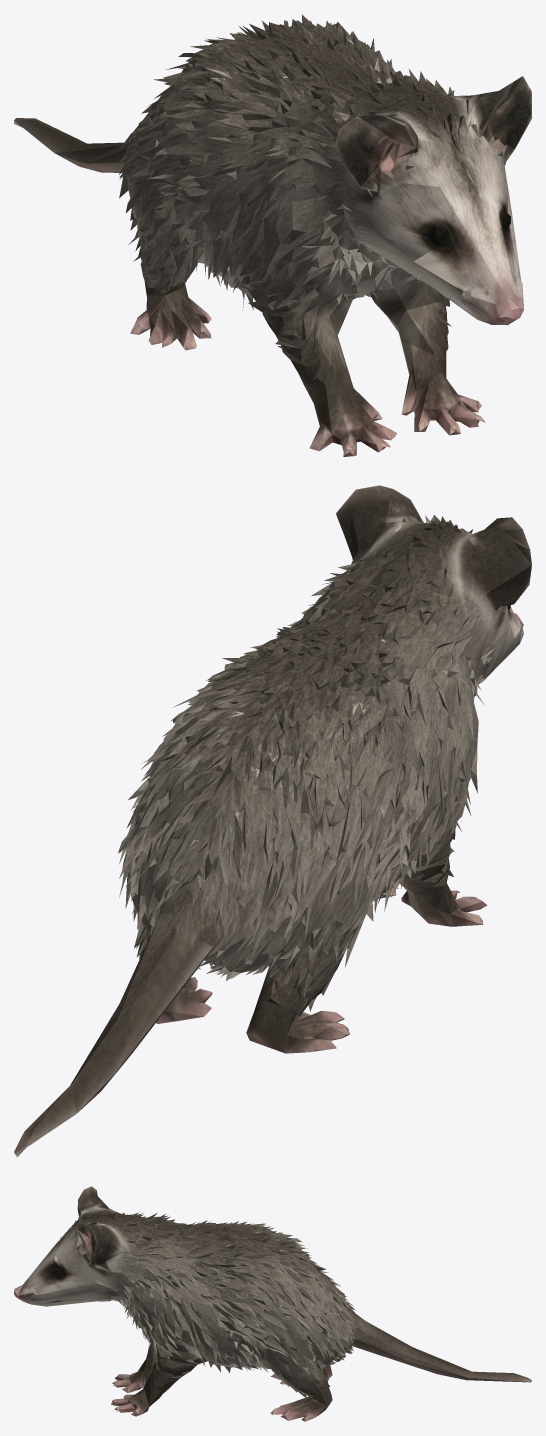
File: sample2.glb
3 views of the same model, one above another, from view 1: azimuth 30°, elevation 25°; view 2: azimuth 150°, elevation 25°; view 3: azimuth 270°, elevation 25° (orthographic). The views are drawn at different scales.
Visible parts, largest first — view 1: output_unwrapped; view 2: output_unwrapped; view 3: output_unwrapped.
Boxes of the visible parts, box(x1,y1,x2,y2) form: output_unwrapped: box(14, 14, 531, 456); output_unwrapped: box(14, 485, 531, 1157); output_unwrapped: box(14, 1186, 531, 1421).
Bounding box in the file's own units: 0.5593 × 0.7667 × 1.89.
Materials: 1 (1 with a texture image).
